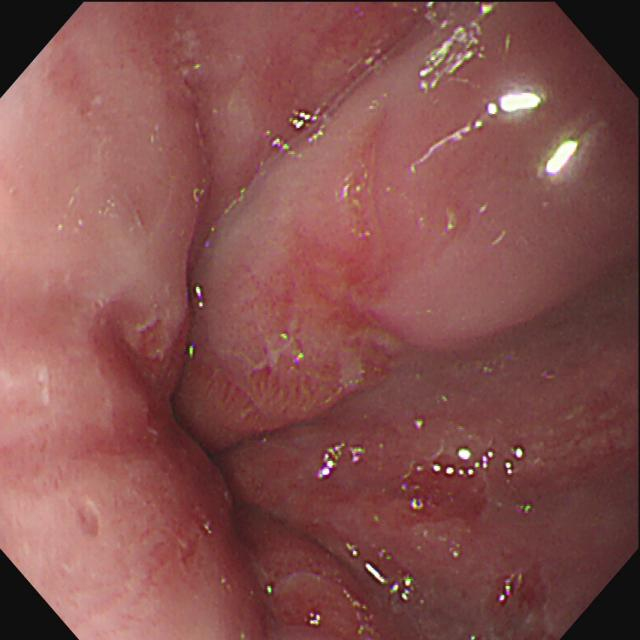D: (295, 247, 374, 336), (399, 462, 480, 525)
I: (124, 217, 329, 599)
U: (410, 2, 497, 91), (410, 118, 490, 173), (346, 544, 415, 603), (432, 445, 527, 480), (266, 108, 327, 158), (487, 87, 547, 123), (319, 443, 367, 482), (541, 138, 583, 181), (495, 574, 523, 608), (193, 282, 209, 313), (304, 612, 325, 631)
